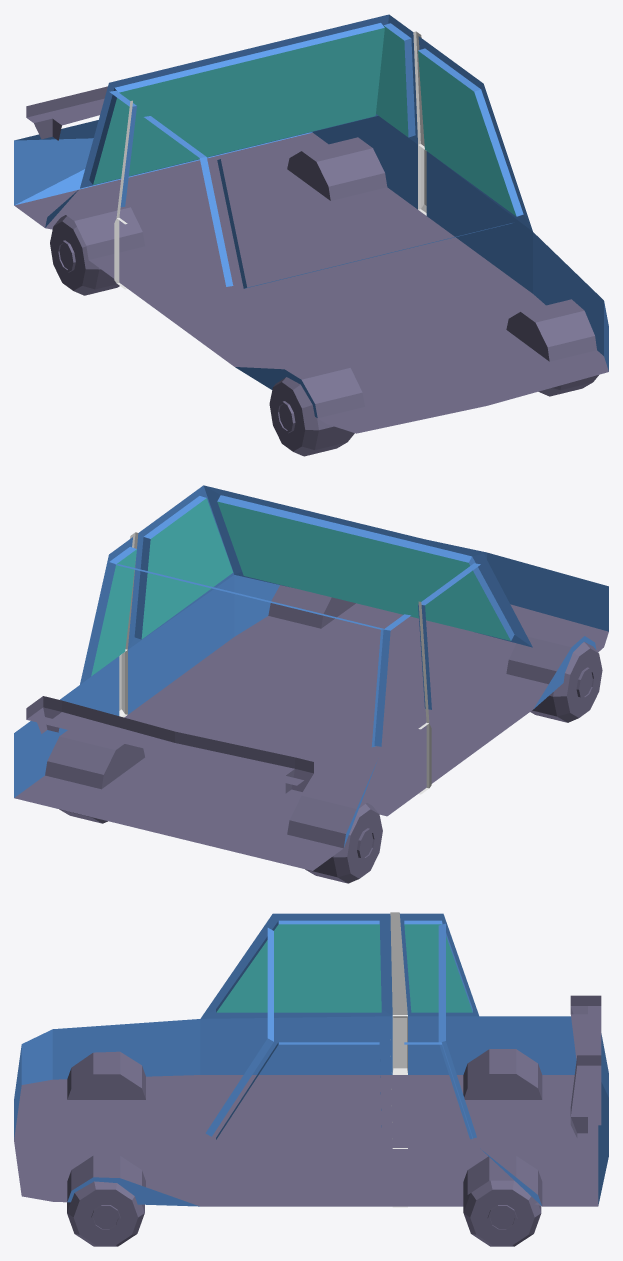
File: SimpleCarShort.glb
The picture shows the model from 3 angles, top to bottom: view 1: azimuth 30°, elevation 25°; view 2: azimuth 150°, elevation 25°; view 3: azimuth 270°, elevation 25°; orthographic projection. The views are drawn at different scales.
Parts seen in each view (by area): view 1: SimpleCarShort; view 2: SimpleCarShort; view 3: SimpleCarShort.
Part boxes in pixels (x1,y1,x2,y2): SimpleCarShort: (14,14,608,456); SimpleCarShort: (14,485,608,883); SimpleCarShort: (14,912,608,1246).
Bounding box in the file's own units: 2.19 × 1.57 × 4.03.
2 materials, 2 textured.
